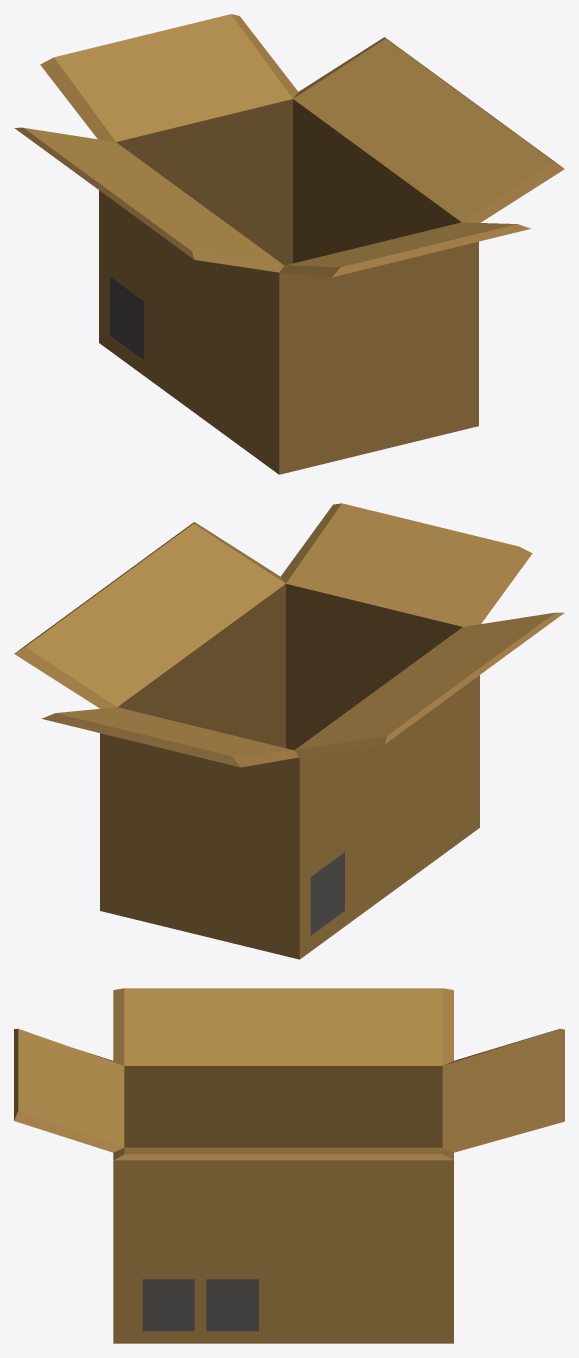
File: SO_CarboardBox_02.fbx
The picture shows the model from 3 angles, top to bottom: view 1: azimuth 30°, elevation 25°; view 2: azimuth 150°, elevation 25°; view 3: azimuth 270°, elevation 25°; orthographic projection. The views are drawn at different scales.
Parts seen in each view (by area): view 1: SO_CarboardBox_02; view 2: SO_CarboardBox_02; view 3: SO_CarboardBox_02.
Part boxes in pixels (bbox=[...]): SO_CarboardBox_02: bbox=[14, 14, 564, 474]; SO_CarboardBox_02: bbox=[14, 503, 564, 959]; SO_CarboardBox_02: bbox=[14, 988, 564, 1343].
Size of the model in its own units: 1.23 by 0.7635 by 1.67.
